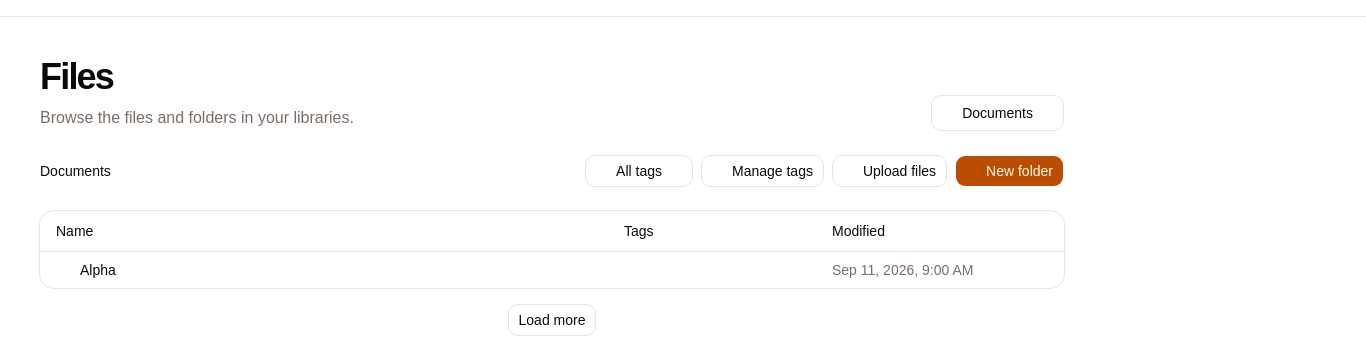
Test: files › loads the next page of a folder
This screenshot has width=1366, height=353.
Click the button "Load more". click: point(552, 320)
box: left=508, top=304, right=596, bottom=336
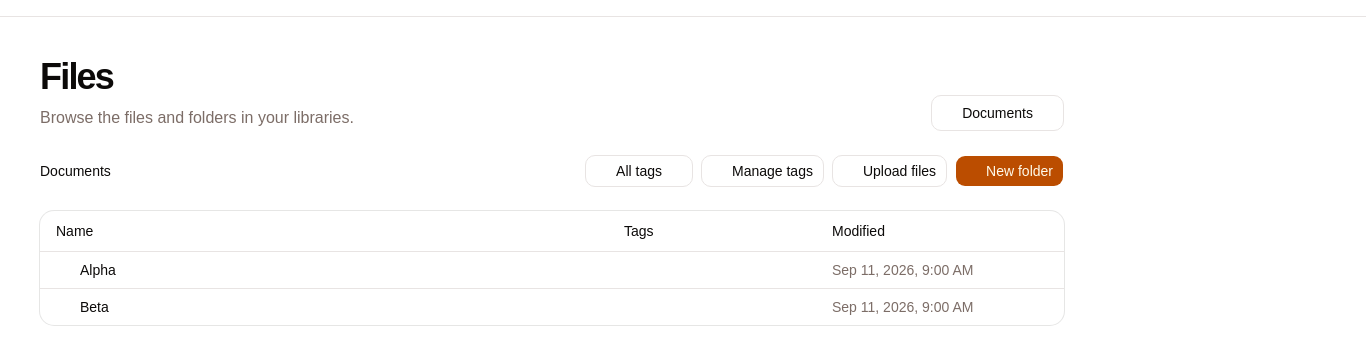
Check: the link "Beta" is shown, box left=80, top=298, right=109, bottom=314
Check: the number of rows is 3, box left=40, top=211, right=1064, bottom=251; left=40, top=251, right=1064, bottom=288; left=40, top=288, right=1064, bottom=324
Check: the button "Load more" is gone
